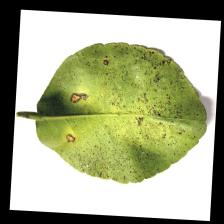canker: (64, 53, 187, 161)
